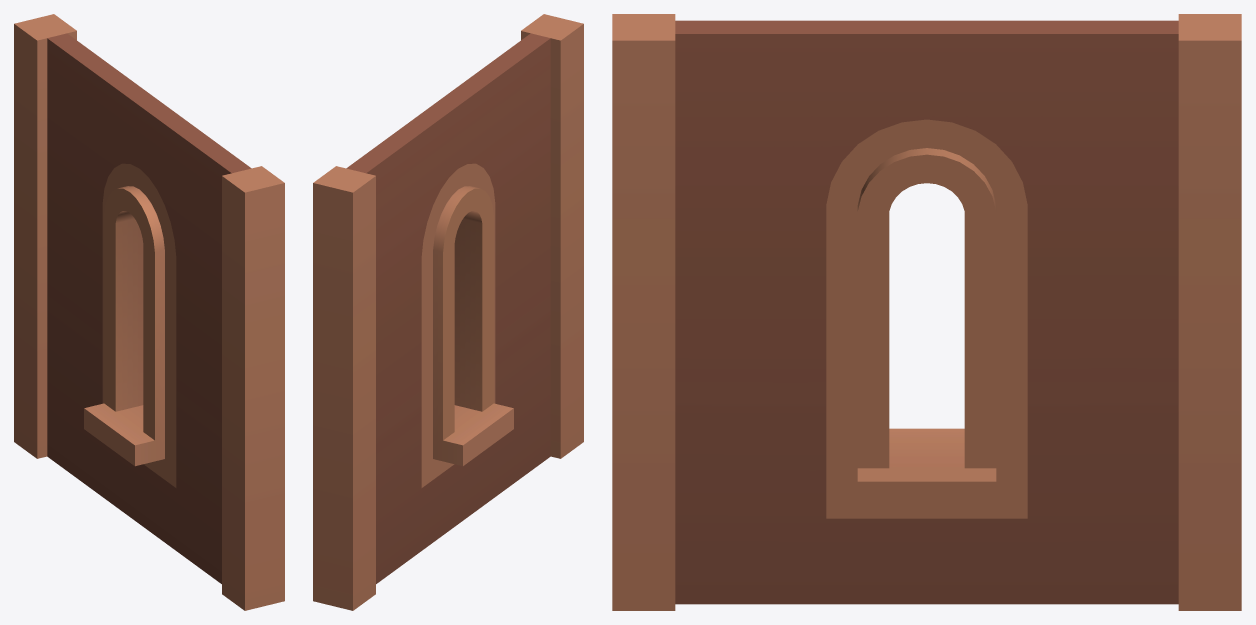
Rendered from kenney-fantasy-town-wall-wood-window-round.glb.
3 renders of one model, left to right at view 1: azimuth 30°, elevation 25°; view 2: azimuth 150°, elevation 25°; view 3: azimuth 270°, elevation 25°, orthographic. The views are drawn at different scales.
Visible parts, largest first — view 1: wall-wood-window-round; view 2: wall-wood-window-round; view 3: wall-wood-window-round.
Part boxes in pixels (x1,y1,x2,y2): wall-wood-window-round: (14, 14, 284, 610); wall-wood-window-round: (313, 14, 583, 610); wall-wood-window-round: (612, 14, 1241, 610).
Size of the model in its own units: 0.2 by 1 by 1.
1 material, 1 textured.
